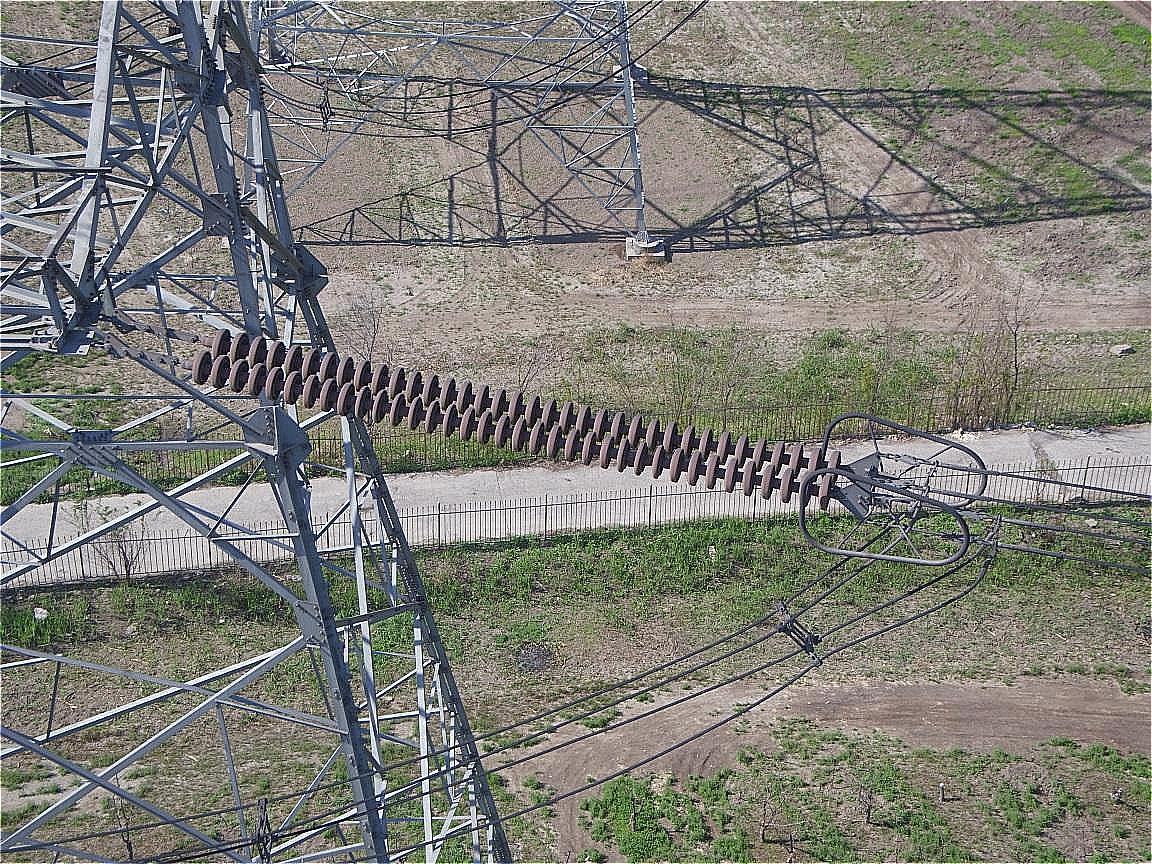insultor1: (186, 331, 852, 519)
